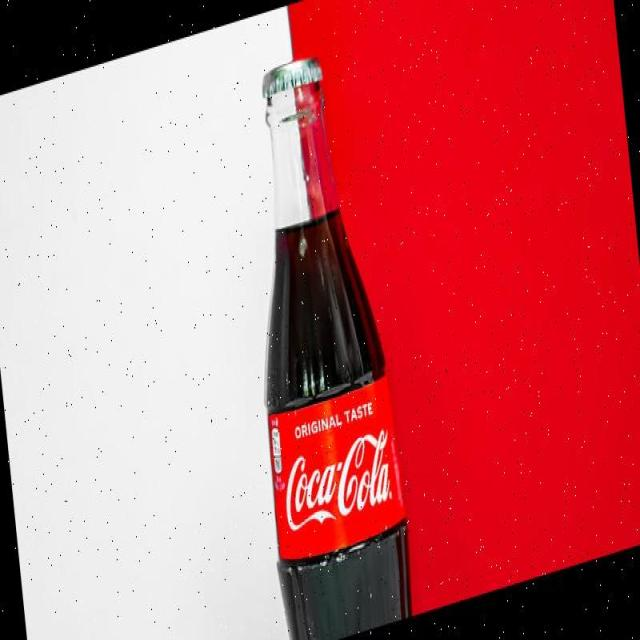coca-cola: (226, 28, 418, 640)
